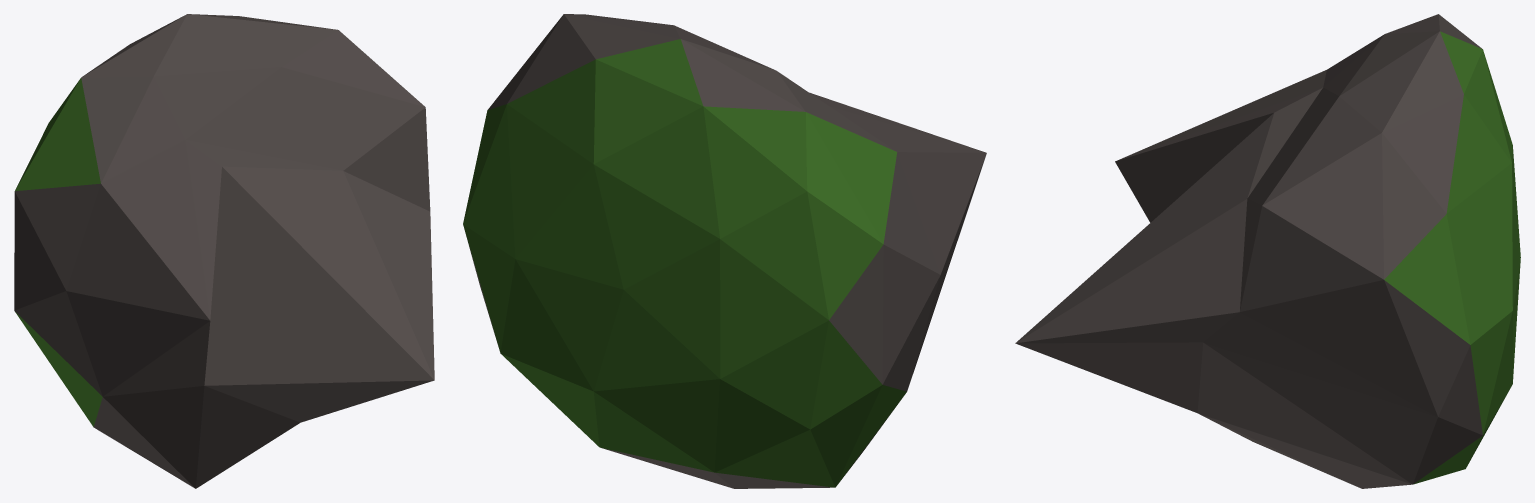
Rendered from FloatingIsland.fbx.
3 renders of one model, left to right at view 1: azimuth 30°, elevation 25°; view 2: azimuth 150°, elevation 25°; view 3: azimuth 270°, elevation 25°, orthographic. The views are drawn at different scales.
Visible parts, largest first — view 1: Icosphere; view 2: Icosphere; view 3: Icosphere.
Part boxes in pixels (x1,y1,x2,y2): Icosphere: (14, 14, 434, 488); Icosphere: (463, 14, 986, 488); Icosphere: (1015, 14, 1520, 488).
Bounding box in the file's own units: 196 × 210 × 207.
